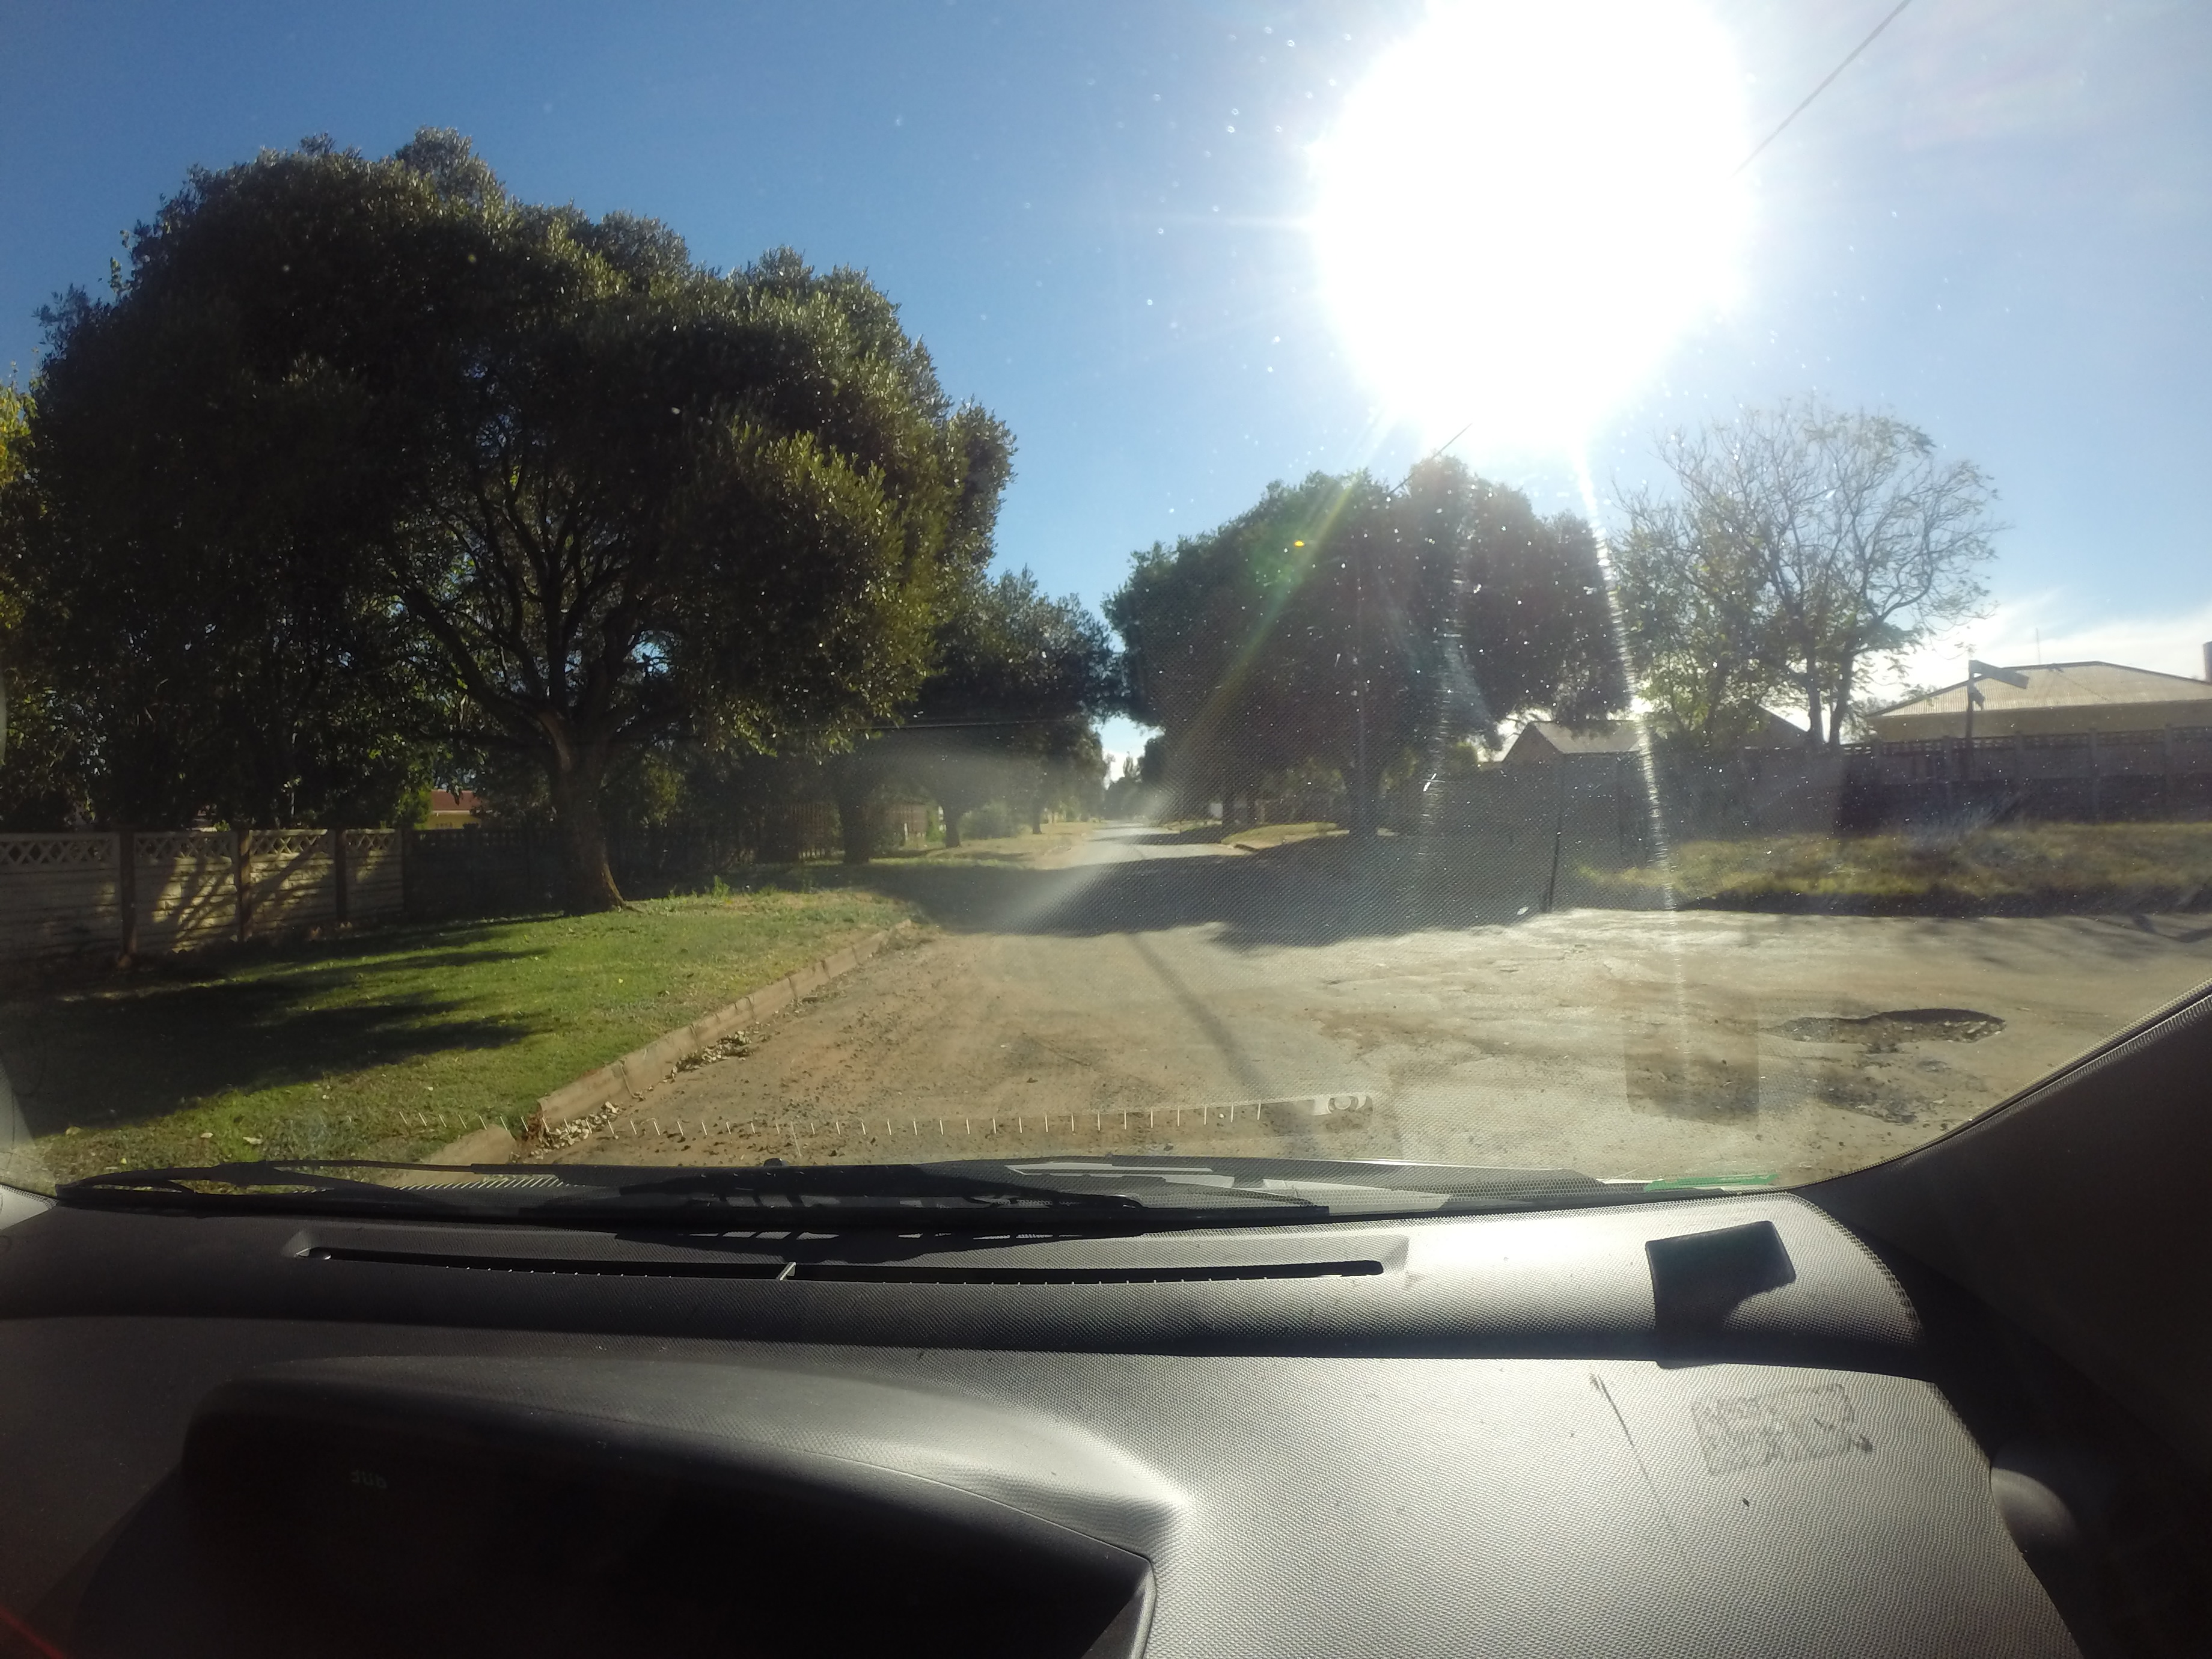pothole: (1709, 985, 2036, 1121)
